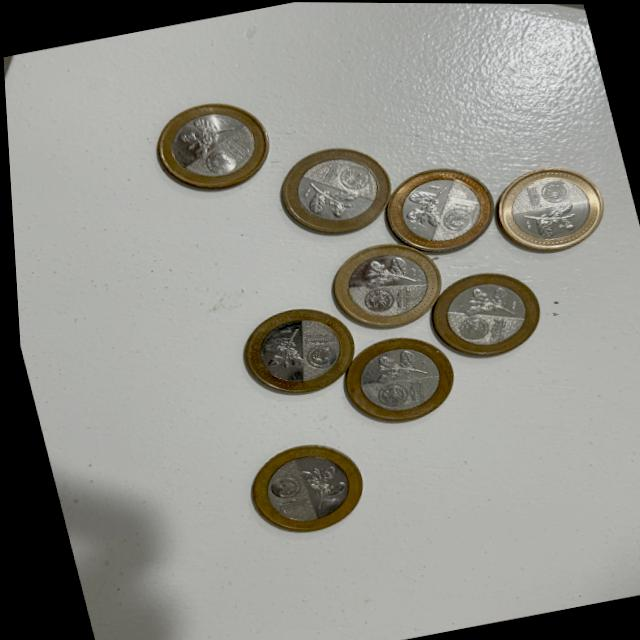20_New_Back: (355, 342, 427, 392), (349, 250, 420, 297), (511, 198, 589, 240), (296, 171, 360, 220), (452, 278, 514, 325), (173, 113, 236, 158), (394, 181, 452, 228), (291, 459, 344, 508), (253, 327, 303, 373)
